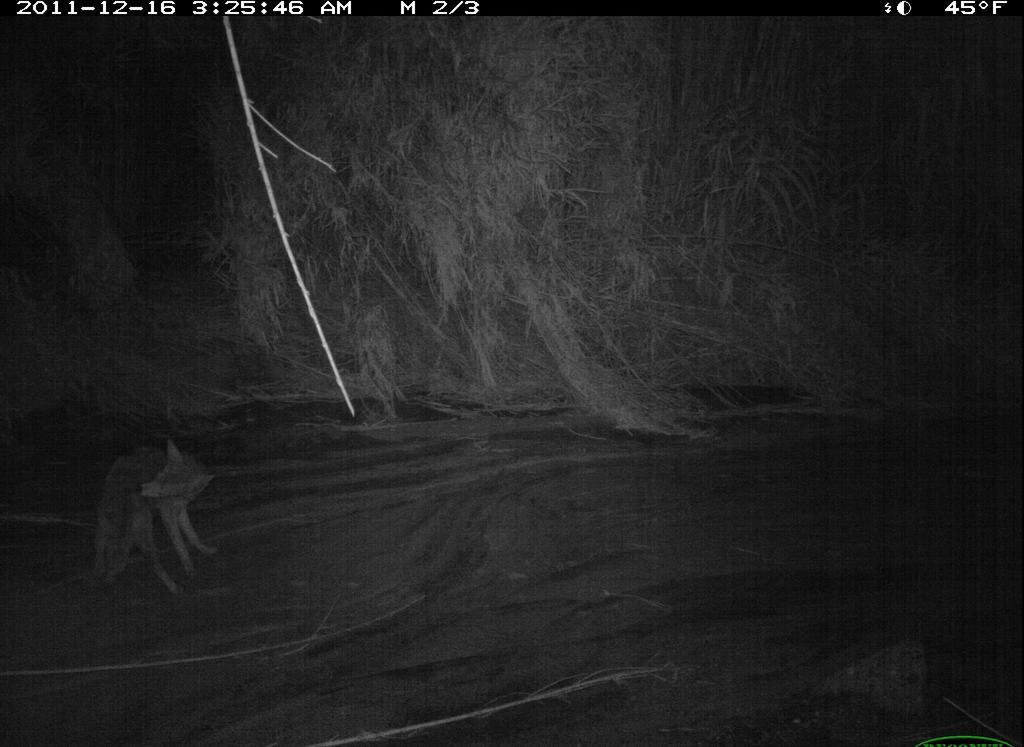coyote: (76, 427, 227, 616)
